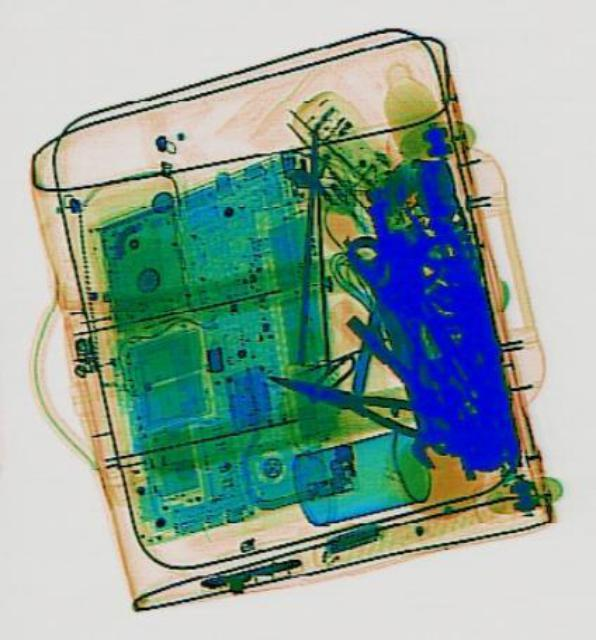Pliers: (260, 356, 424, 436)
